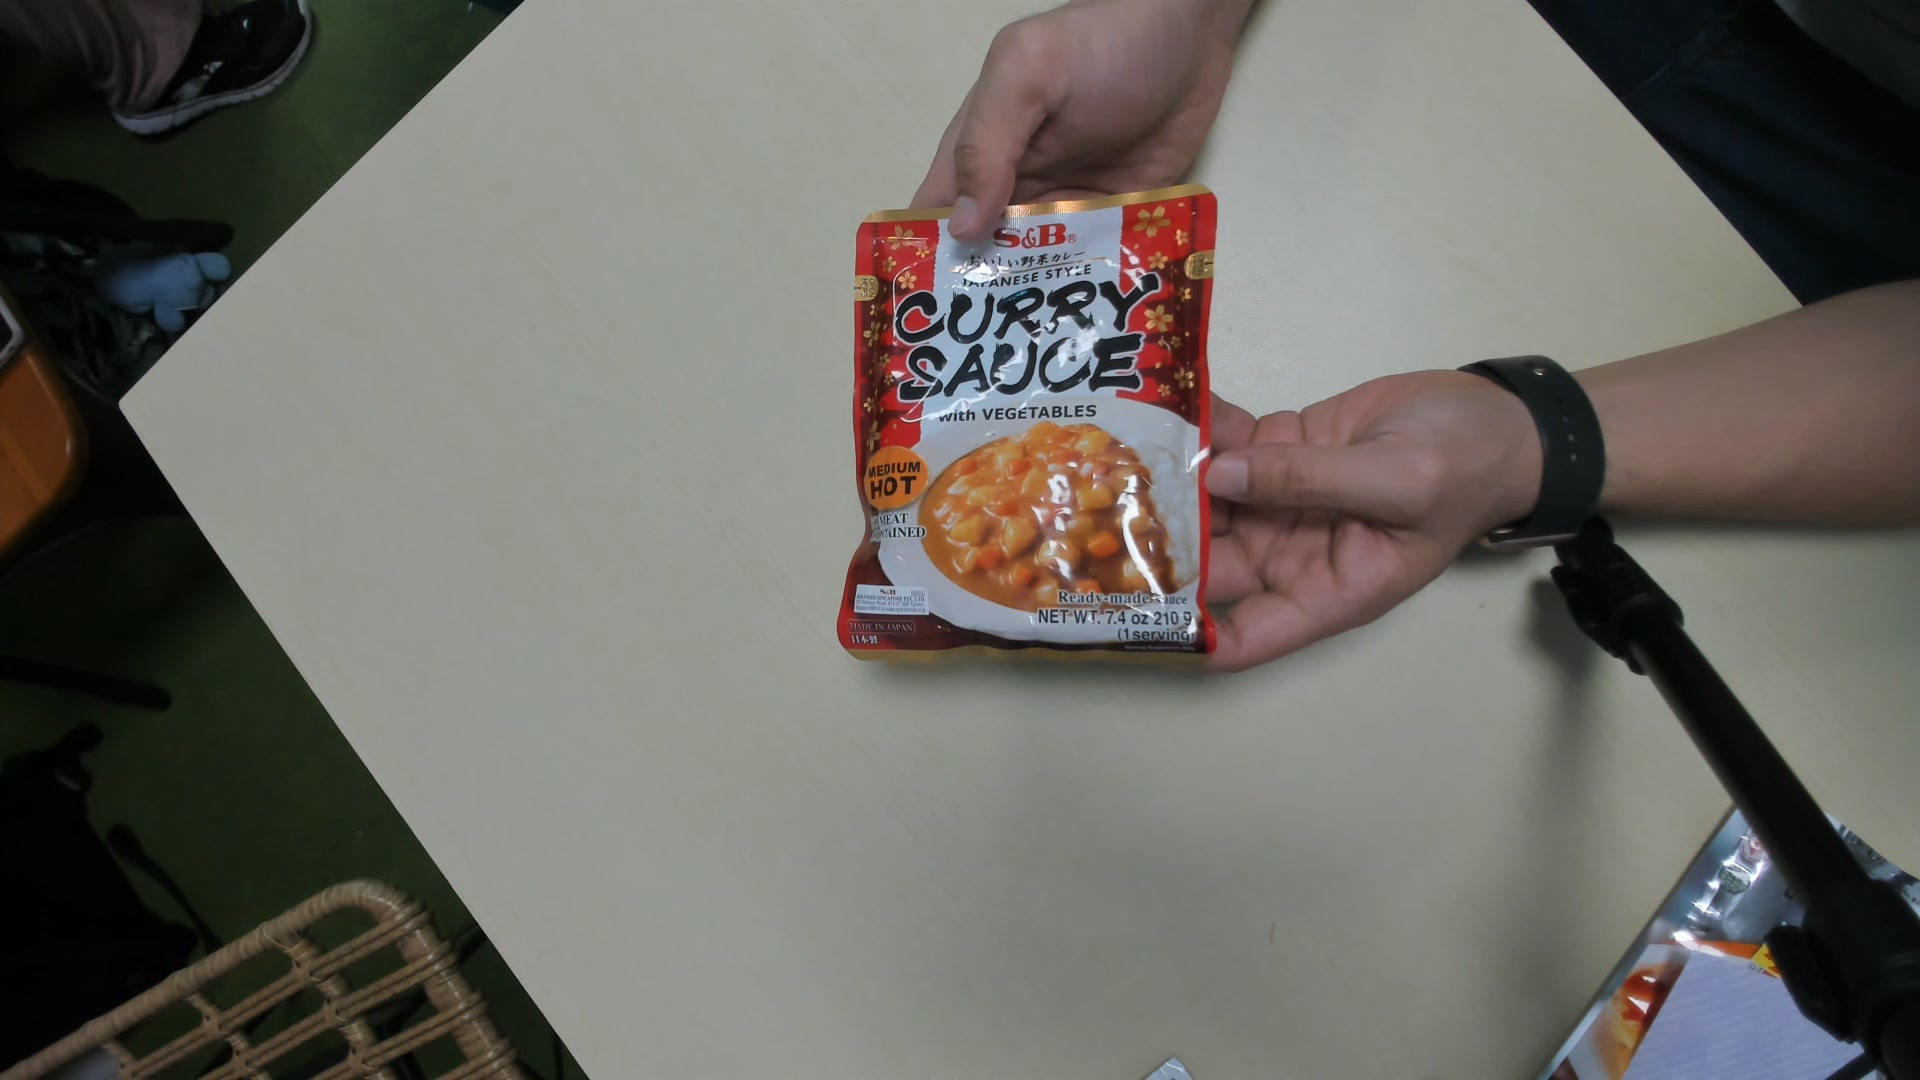CurryPastePowderSauce_200-299g_NonHalal_NonHealthy: (833, 189, 1215, 665)
